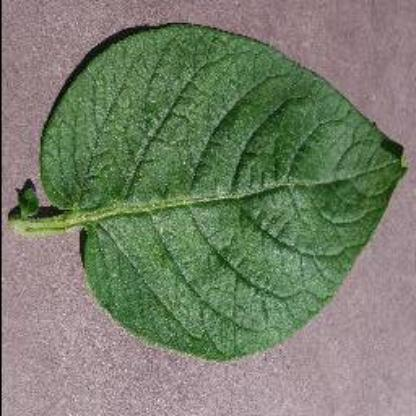Healthy-plant: (9, 19, 411, 366)
